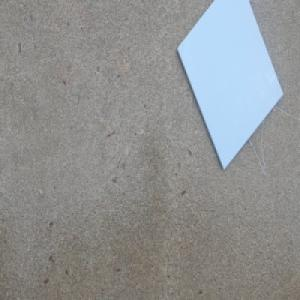PaintChip: (175, 0, 283, 172)
